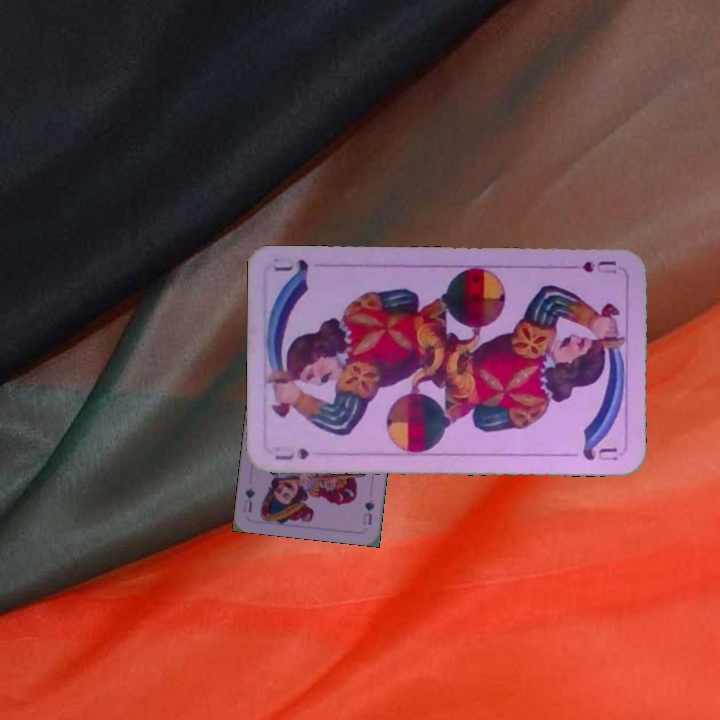GU: (359, 496, 377, 527)
SU: (562, 257, 619, 276), (271, 444, 312, 462)
